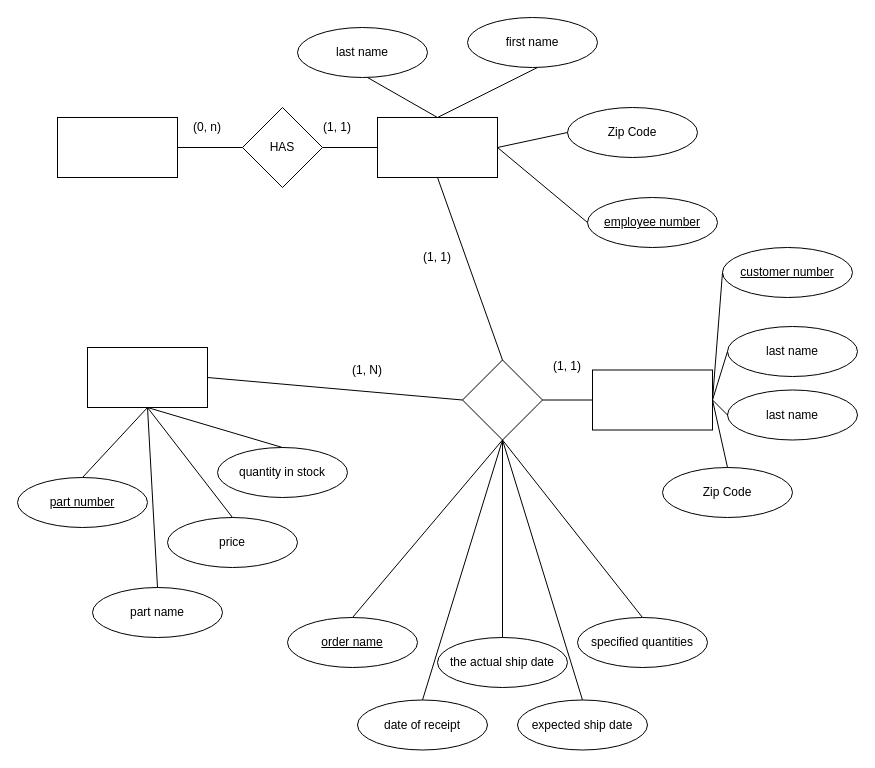
Some shapes in this 875 by 768 pixel diagram are drawn without their labels. Here are the shapes that lost their labels. From the top down, the centre of each, then its label:
point 117,147: COMPANY
point 437,147: EMPLOYEE
point 147,377: PART
point 502,399: ORDER
point 652,399: CUSTOMER
